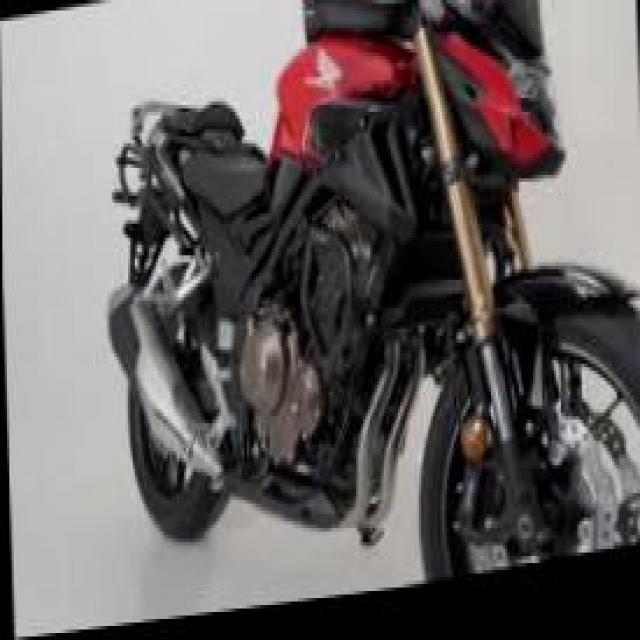CB500F: (98, 0, 638, 630)
